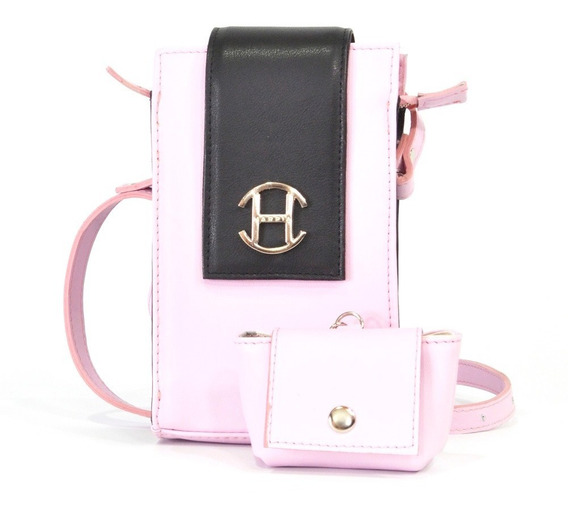cartera: (130, 14, 462, 474)
